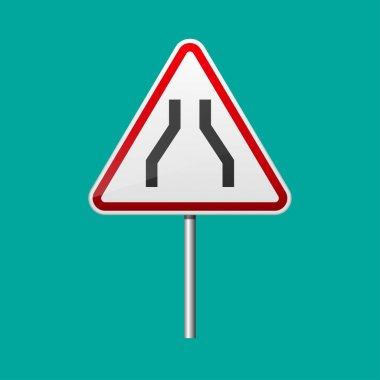narrow-road: (141, 89, 248, 202)
